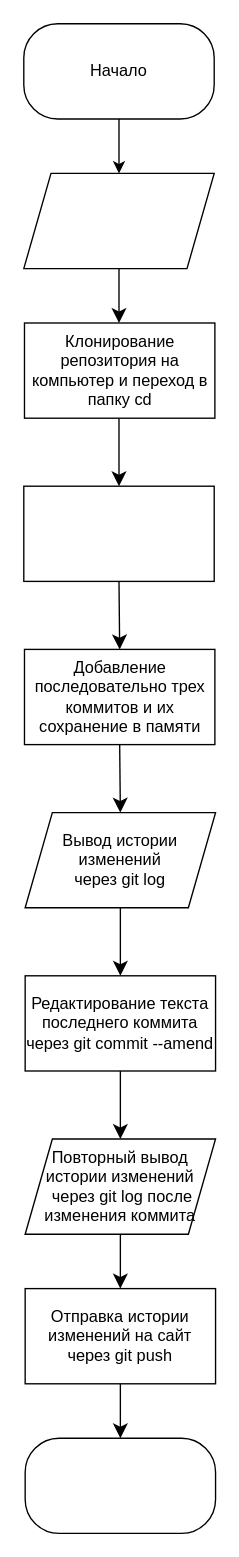
This 239x1557 diagram has some shape labels left out. The centre of each missing label's shape, as x and y in pixels:
Входные данные: указание адреса репозитория для сохранения действий: point (118, 220)
Конец: point (120, 1485)
Настройка данных автора через git config: point (118, 533)
